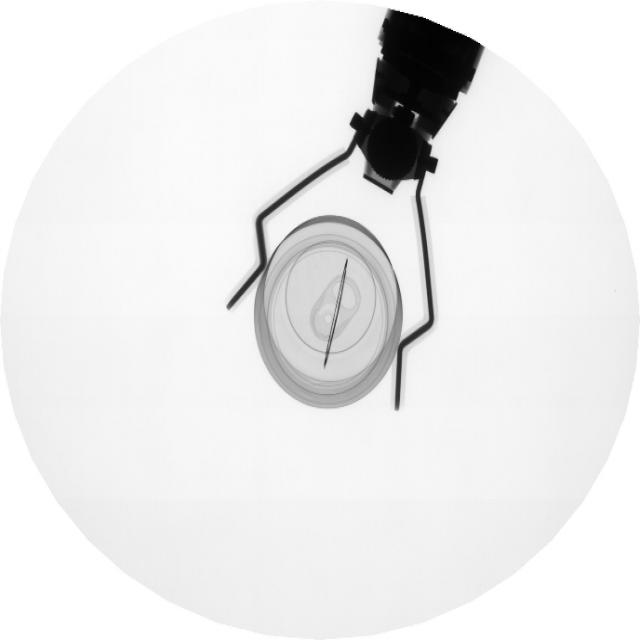BLADE: (320, 253, 355, 376)
